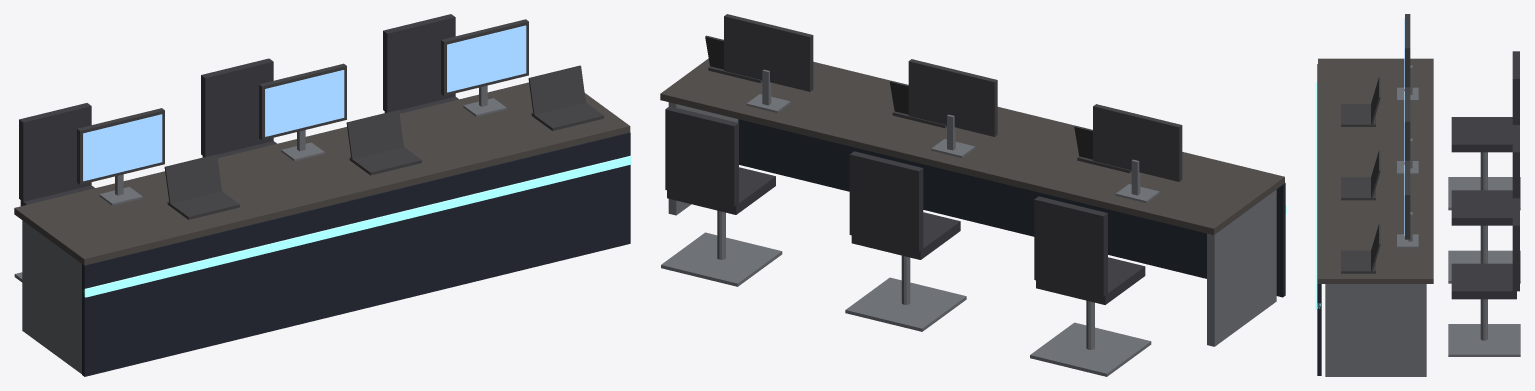
File: PressTable.glb
3 renders of one model, left to right at view 1: azimuth 30°, elevation 25°; view 2: azimuth 150°, elevation 25°; view 3: azimuth 270°, elevation 25°, orthographic. The views are drawn at different scales.
Visible parts, largest first — view 1: Skirt, Top, Leg-1.75, Stripe, ChairBack0, ChairBack1, ChairBack2, MonitorScreen0, MonitorScreen1, MonitorScreen2, LaptopLid1, LaptopLid0 (+7 smaller); view 2: Top, Skirt, Leg-1.75, ChairBack1, ChairBack0, ChairBack2, Monitor1, Monitor0, Monitor2, ChairFoot2, ChairFoot0, ChairFoot1 (+6 smaller); view 3: Top, Leg1.75, ChairSeat2, ChairFoot2, ChairSeat1, ChairSeat0, ChairFoot0, ChairFoot1, LaptopBase1, LaptopBase2, ChairBack2, LaptopBase0 (+16 smaller).
Part boxes in pixels (x1,y1,x2,y2): Skirt: [82, 132, 630, 376]; Top: [14, 82, 630, 265]; Leg-1.75: [22, 220, 81, 373]; Stripe: [83, 155, 631, 297]; ChairBack0: [19, 103, 91, 201]; ChairBack1: [201, 58, 273, 156]; ChairBack2: [383, 14, 455, 112]; MonitorScreen0: [83, 114, 162, 181]; MonitorScreen1: [265, 70, 344, 136]; MonitorScreen2: [447, 25, 526, 92]; LaptopLid1: [346, 110, 403, 159]; LaptopLid0: [164, 154, 221, 203]; Top: [660, 58, 1284, 234]; Skirt: [738, 119, 1285, 297]; Leg-1.75: [1207, 189, 1276, 346]; ChairBack1: [849, 151, 923, 251]; ChairBack0: [1034, 196, 1107, 296]; ChairBack2: [665, 106, 738, 206]; Monitor1: [908, 59, 997, 136]; Monitor0: [1093, 104, 1182, 181]; Monitor2: [724, 14, 813, 91]; ChairFoot2: [661, 232, 782, 286]; ChairFoot0: [1030, 322, 1151, 376]; ChairFoot1: [845, 277, 966, 331]; Top: [1318, 58, 1433, 283]; Leg1.75: [1325, 284, 1426, 376]; ChairSeat2: [1451, 263, 1516, 299]; ChairFoot2: [1448, 324, 1520, 356]; ChairSeat1: [1451, 190, 1512, 225]; ChairSeat0: [1451, 117, 1512, 152]; ChairFoot0: [1448, 177, 1520, 210]; ChairFoot1: [1448, 250, 1520, 283]; LaptopBase1: [1341, 177, 1375, 200]; LaptopBase2: [1341, 250, 1375, 273]; ChairBack2: [1512, 198, 1519, 291]; LaptopBase0: [1341, 104, 1375, 126].
Bounding box in the file's own units: 3.6 × 1.25 × 1.42.
